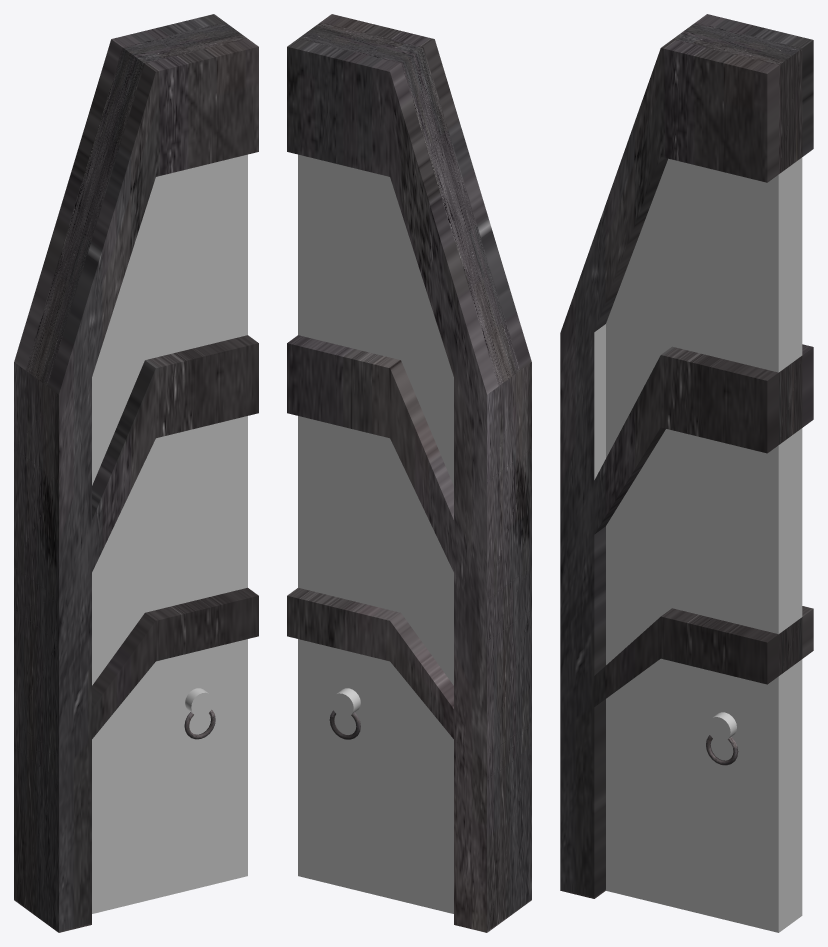
File: bigDoor.fbx
3 renders of one model, left to right at view 1: azimuth 30°, elevation 25°; view 2: azimuth 150°, elevation 25°; view 3: azimuth 330°, elevation 25°, orthographic. The views are drawn at different scales.
Visible parts, largest first — view 1: doorBase, handleBase; view 2: doorBase, handleBase; view 3: doorBase, handleBase.
Boxes of the visible parts, left/top/right/bottom form: doorBase: left=14, top=14, right=258, bottom=932; handleBase: left=185, top=688, right=213, bottom=716; doorBase: left=287, top=14, right=531, bottom=932; handleBase: left=331, top=688, right=360, bottom=717; doorBase: left=560, top=14, right=813, bottom=932; handleBase: left=707, top=712, right=736, bottom=741.
Bounding box in the file's own units: 1 × 4 × 0.3875.
